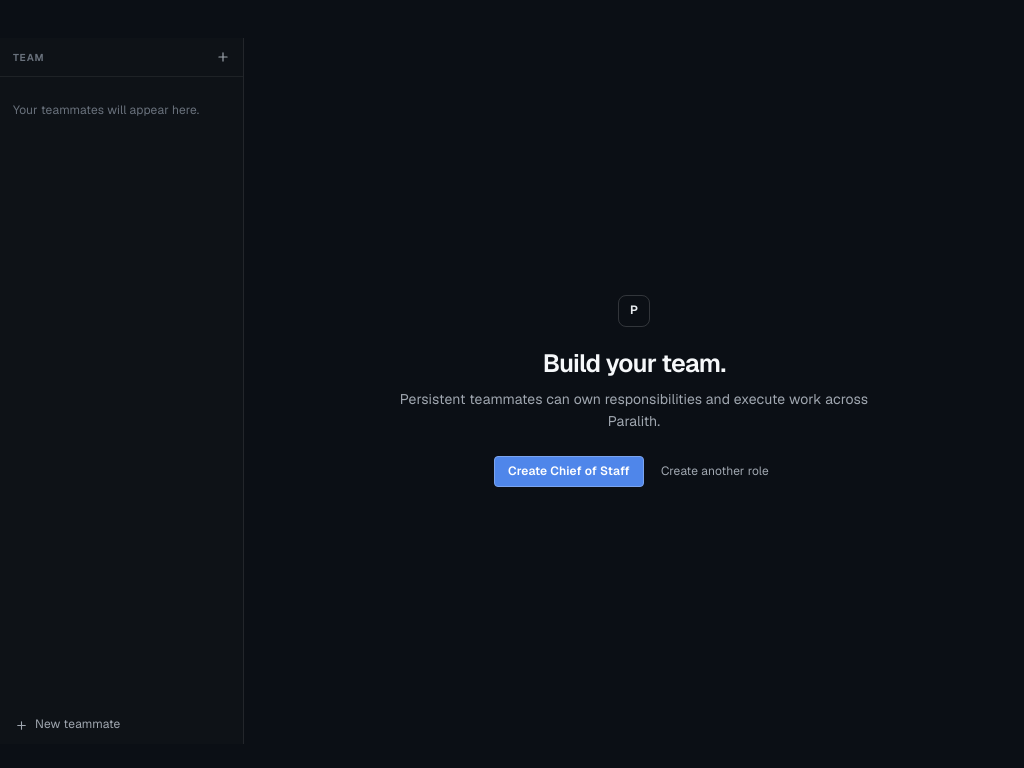
Test case: AgentModeSurface › turns a natural-language responsibility into an editable teammate suggestion
Click the button "Create another role".
click(715, 472)  # box [656,458,774,486]
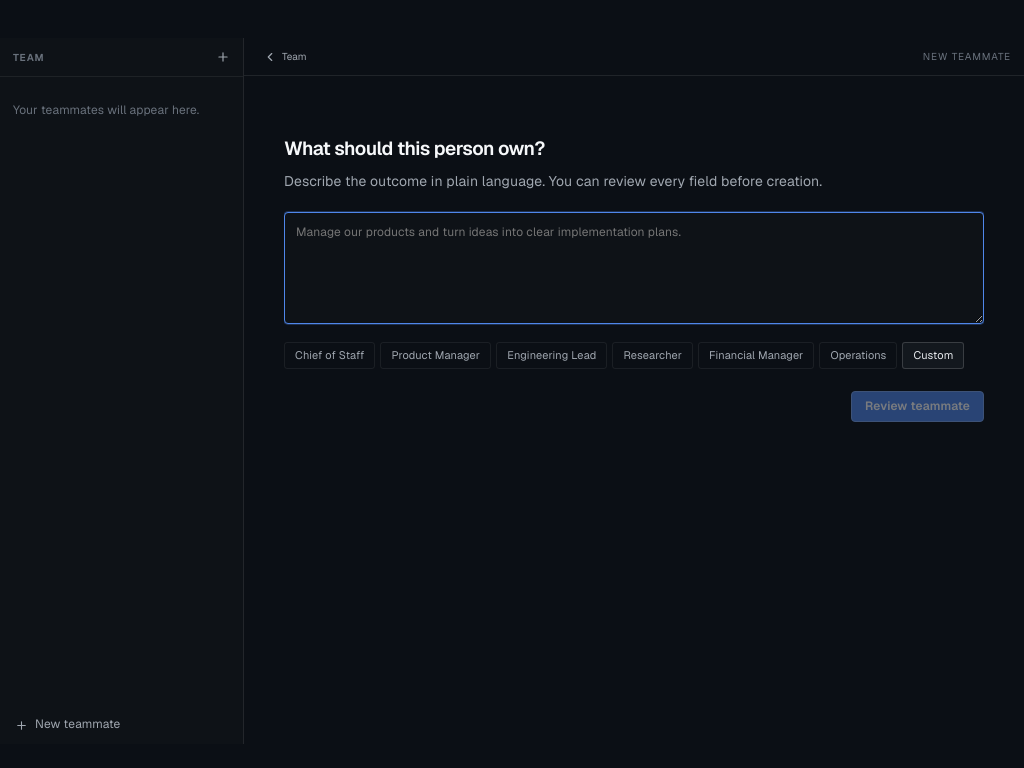
Replace the text in the text box with placeholder "Manage our products and turn ideas into clear implementation plans." with "Implement repository changes and run tests." at [634, 268], box [284,212,984,324]
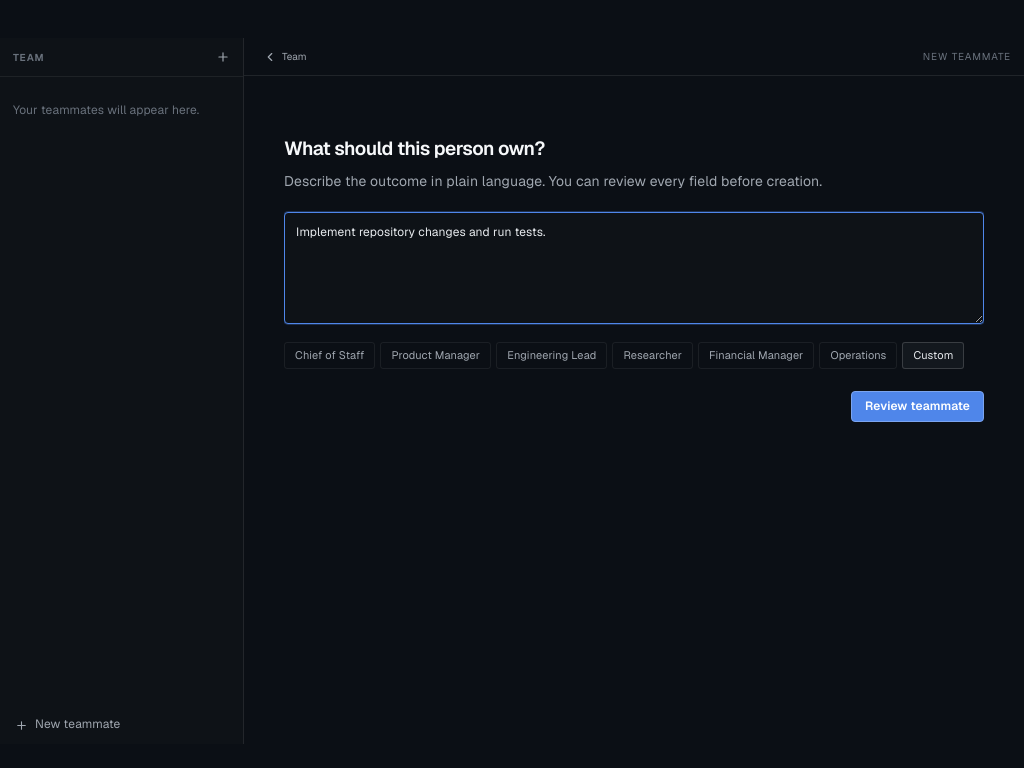
Click the button "Review teammate".
click(918, 406)  # box [851,391,984,422]
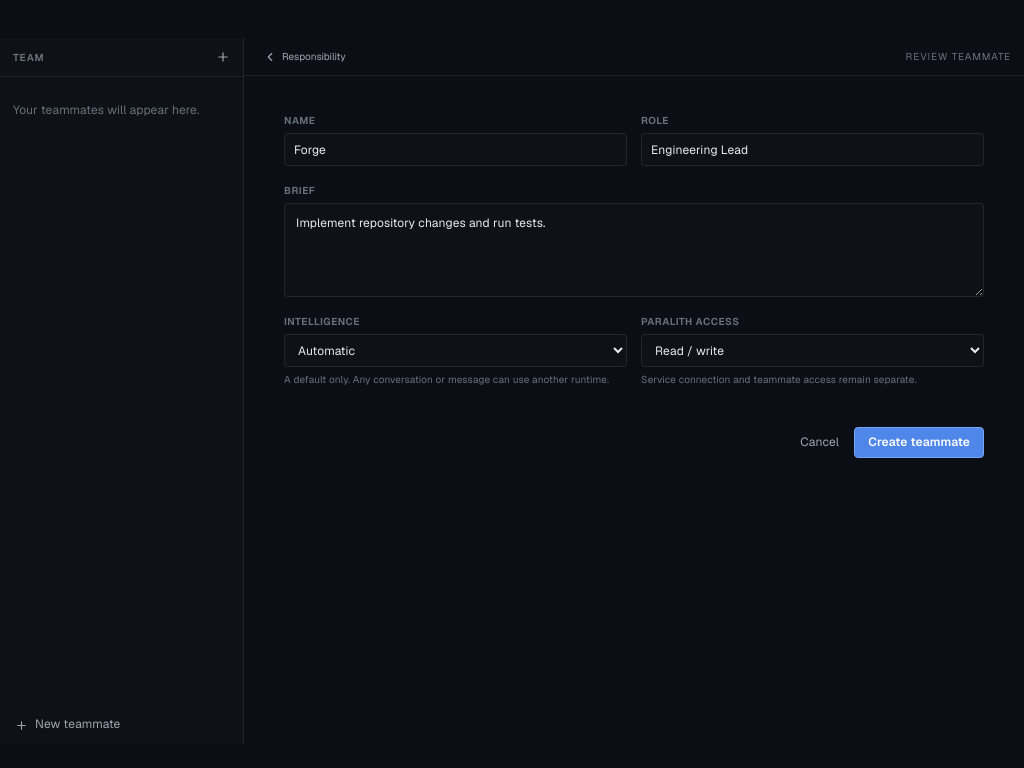
Result: the field showing "Forge" is shown at [284,133,627,166]
Result: the field showing "Engineering Lead" is shown at [641,133,984,166]
